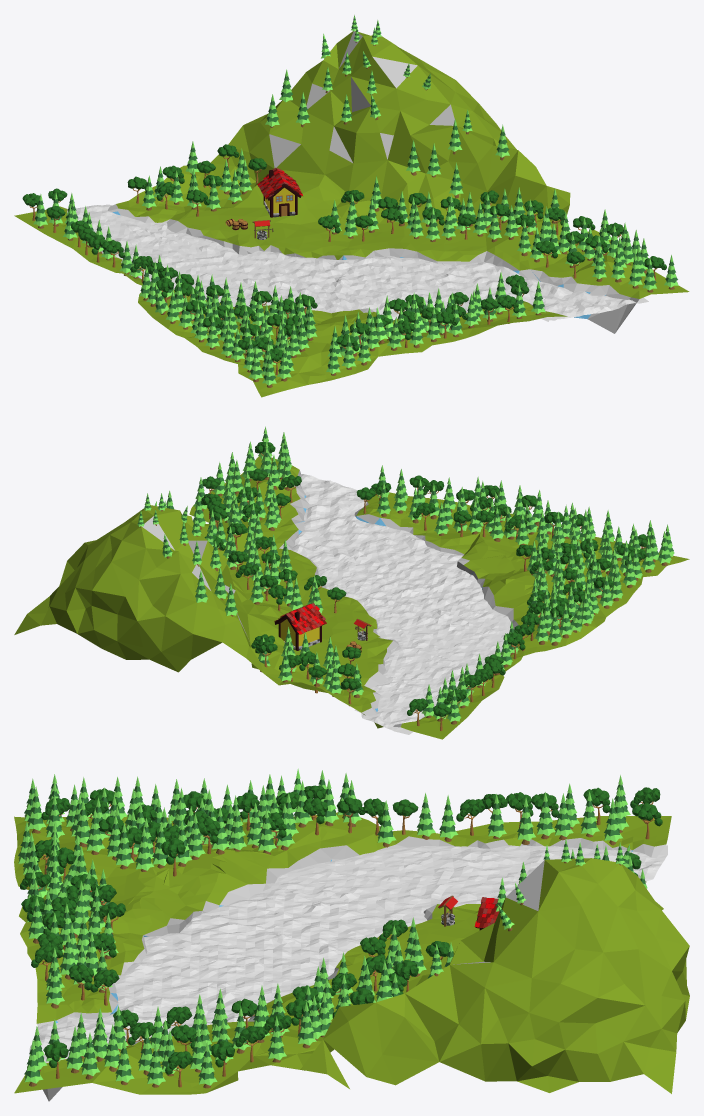
File: Low Poly Forest.fbx
The picture shows the model from 3 angles, top to bottom: view 1: azimuth 30°, elevation 25°; view 2: azimuth 150°, elevation 25°; view 3: azimuth 270°, elevation 25°; orthographic projection. The views are drawn at different scales.
Visible parts, largest first — view 1: Ground, Lake, House; view 2: Ground, Lake, House; view 3: Ground, Lake, House, tree.009.
Part boxes in pixels (<box>): Ground: <box>14,31,689,397</box>; Lake: <box>76,204,648,321</box>; House: <box>257,167,302,217</box>; Ground: <box>14,456,689,739</box>; Lake: <box>292,474,511,734</box>; House: <box>274,603,326,650</box>; Ground: <box>14,812,689,1101</box>; Lake: <box>29,845,667,1063</box>; House: <box>474,897,499,930</box>; tree.009: <box>632,802,662,839</box>.
Bounding box in the file's own units: 939 × 411 × 965.
